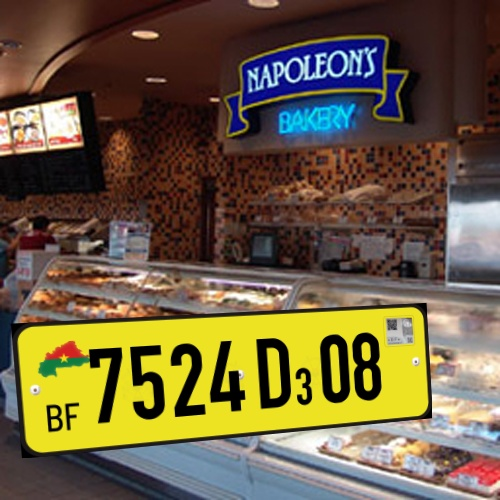plate: (5, 301, 442, 467)
